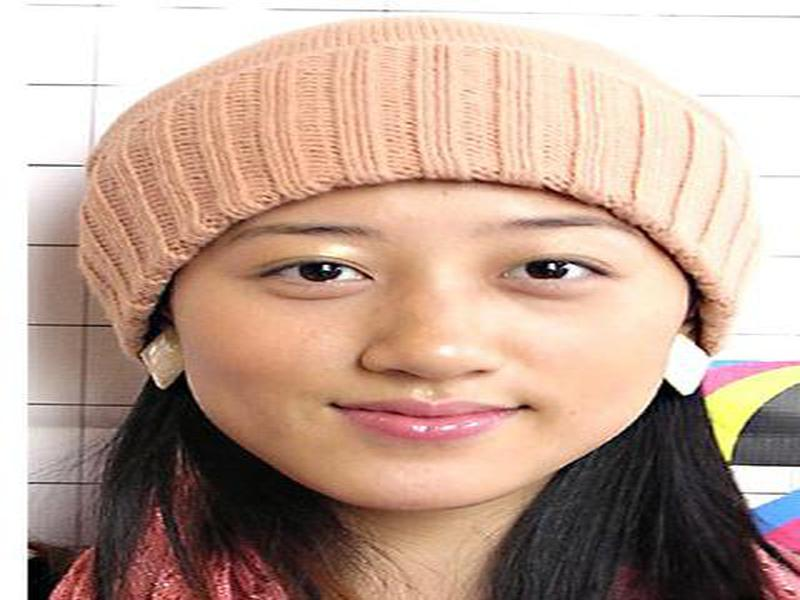without_mask: (174, 184, 689, 512)
